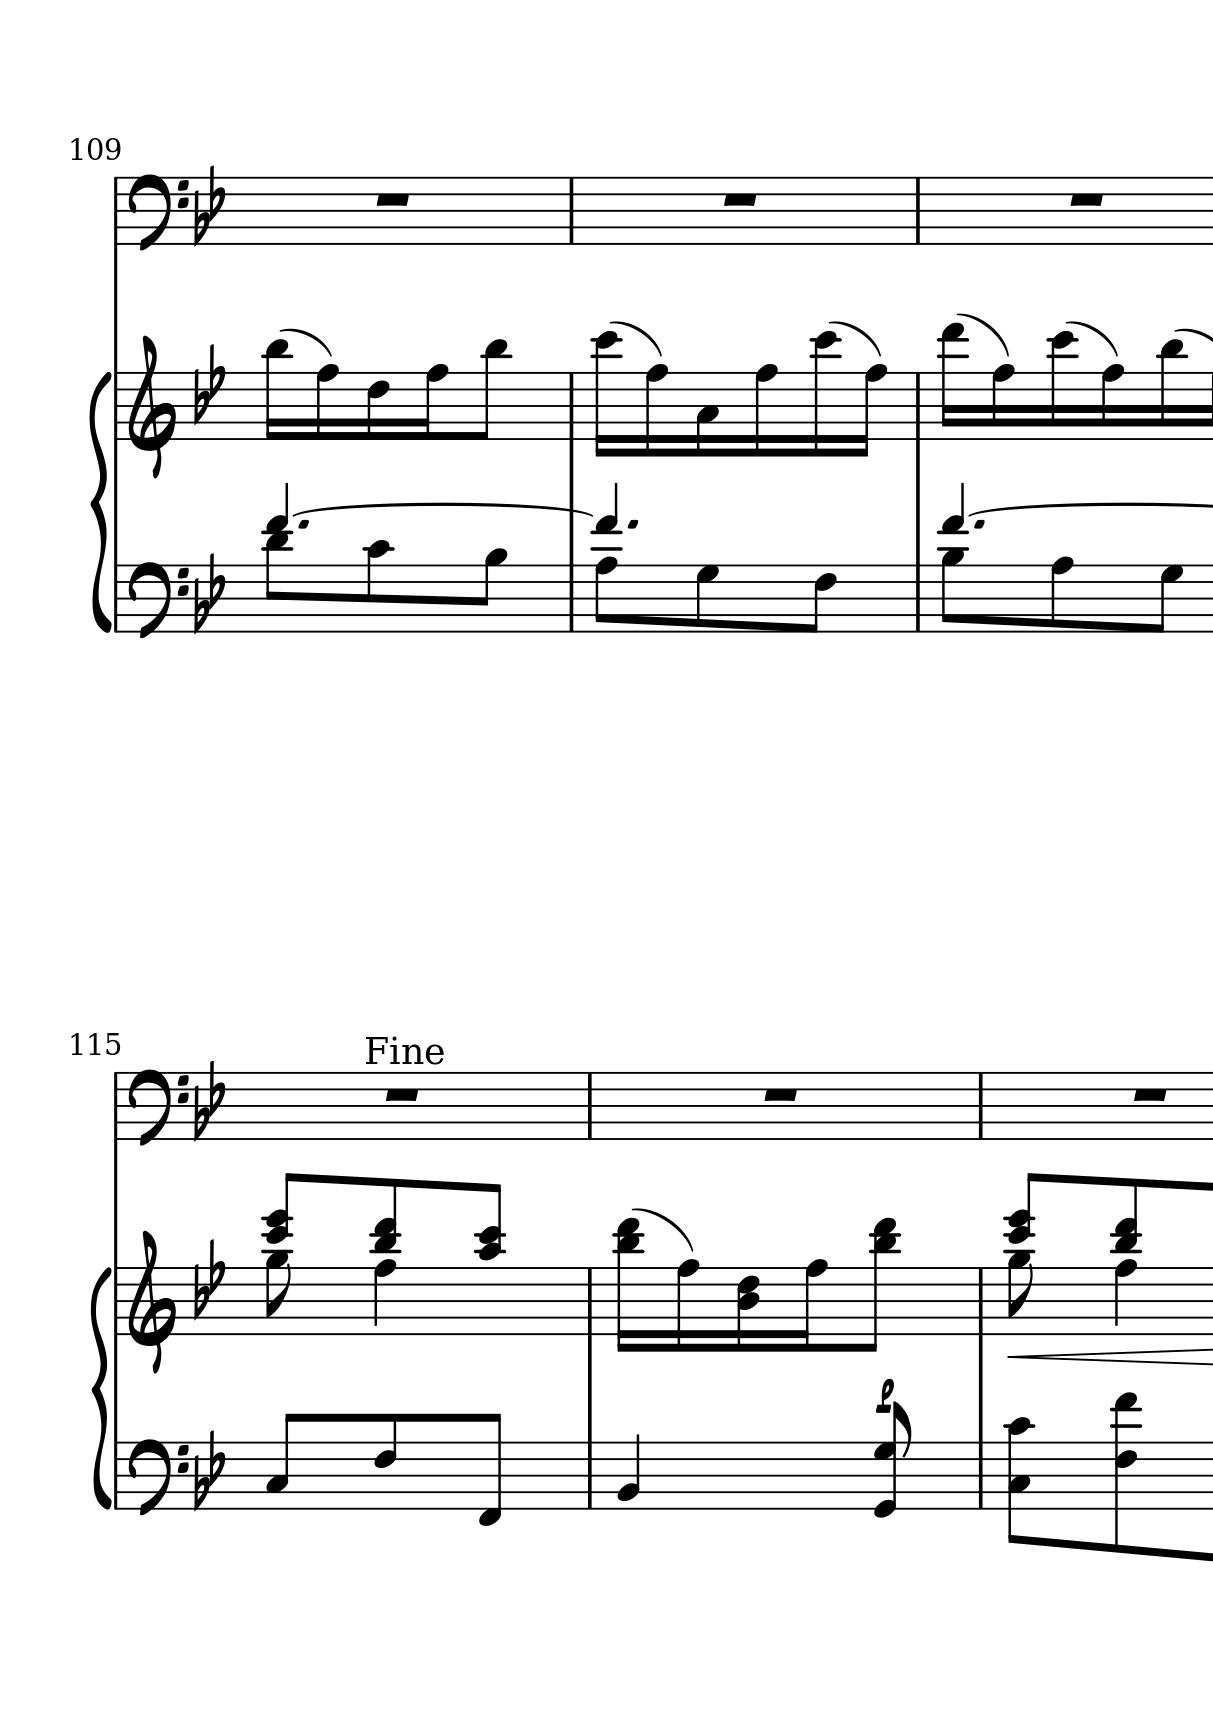0: (85, 137, 112, 163)
1: (67, 135, 83, 164), (68, 1031, 84, 1060), (87, 1031, 101, 1060)
16_11: (1157, 337, 1185, 442), (263, 339, 290, 442)
16_11_13: (613, 1216, 641, 1354)
16_12: (810, 328, 840, 462), (592, 330, 620, 460), (1048, 330, 1078, 444)
16_13: (937, 320, 968, 445)
16_3: (693, 370, 719, 460)
16_6: (364, 370, 390, 442)
16_8: (790, 1258, 828, 1354), (851, 362, 887, 460), (412, 362, 448, 442), (642, 362, 670, 460), (752, 362, 778, 460), (673, 1259, 698, 1355), (989, 362, 1015, 442), (314, 362, 339, 442), (1099, 362, 1124, 442)
4_2: (614, 1432, 642, 1512)
4_8: (1112, 1258, 1138, 1338), (372, 1258, 396, 1338)
5: (102, 1031, 121, 1058)
8_-1: (474, 1411, 504, 1528)
8_0_7: (876, 1405, 914, 1519)
8_10: (365, 540, 391, 635)
8_10_12: (473, 1183, 505, 1334)
8_11: (470, 335, 507, 442)
8_11_13: (866, 1217, 899, 1354)
8_3: (263, 1411, 298, 1512)
8_3_10: (1004, 1417, 1034, 1547)
8_6: (372, 1410, 398, 1511), (803, 562, 836, 635)
8_6_13: (1111, 1390, 1142, 1555)
8_7: (1149, 563, 1183, 634), (693, 563, 719, 634)
8_8: (1048, 555, 1074, 635), (593, 555, 620, 635)
8_9: (473, 546, 507, 635), (939, 547, 966, 635), (264, 1249, 291, 1337), (1006, 1250, 1033, 1338)
9: (102, 135, 122, 163)
B_F: (190, 1428, 224, 1510), (192, 1237, 224, 1321), (190, 165, 224, 246), (190, 1061, 224, 1141), (192, 344, 224, 427), (192, 553, 224, 634)
Brace: (87, 362, 109, 635), (88, 1274, 112, 1495)
Fclef: (123, 1436, 190, 1520), (125, 559, 189, 643), (123, 173, 190, 253), (125, 1067, 190, 1149)
Gclef: (126, 1228, 179, 1375), (126, 333, 176, 479)
Rests1: (381, 1083, 423, 1105), (1065, 189, 1108, 210), (759, 1084, 801, 1105), (372, 189, 414, 209), (718, 189, 760, 209), (1129, 1084, 1171, 1104)
Single_barline: (907, 372, 928, 442), (580, 1268, 601, 1334), (562, 373, 582, 440), (562, 565, 582, 632), (908, 565, 928, 632), (580, 1442, 600, 1509), (580, 1073, 599, 1140), (971, 1442, 990, 1509), (562, 179, 580, 244), (106, 179, 123, 246), (971, 1073, 989, 1140), (971, 1268, 989, 1334), (908, 179, 926, 243), (108, 1071, 123, 1140), (110, 1266, 123, 1337), (110, 372, 123, 440), (110, 566, 123, 630), (110, 1443, 123, 1506)
Slur: (635, 1207, 694, 1253), (958, 311, 1008, 357), (831, 319, 880, 358), (1067, 319, 1116, 358), (614, 319, 659, 358), (281, 327, 331, 357), (1174, 326, 1213, 344)
dot: (624, 516, 641, 534), (970, 516, 989, 533), (293, 519, 312, 533)
p: (872, 1377, 895, 1414)
